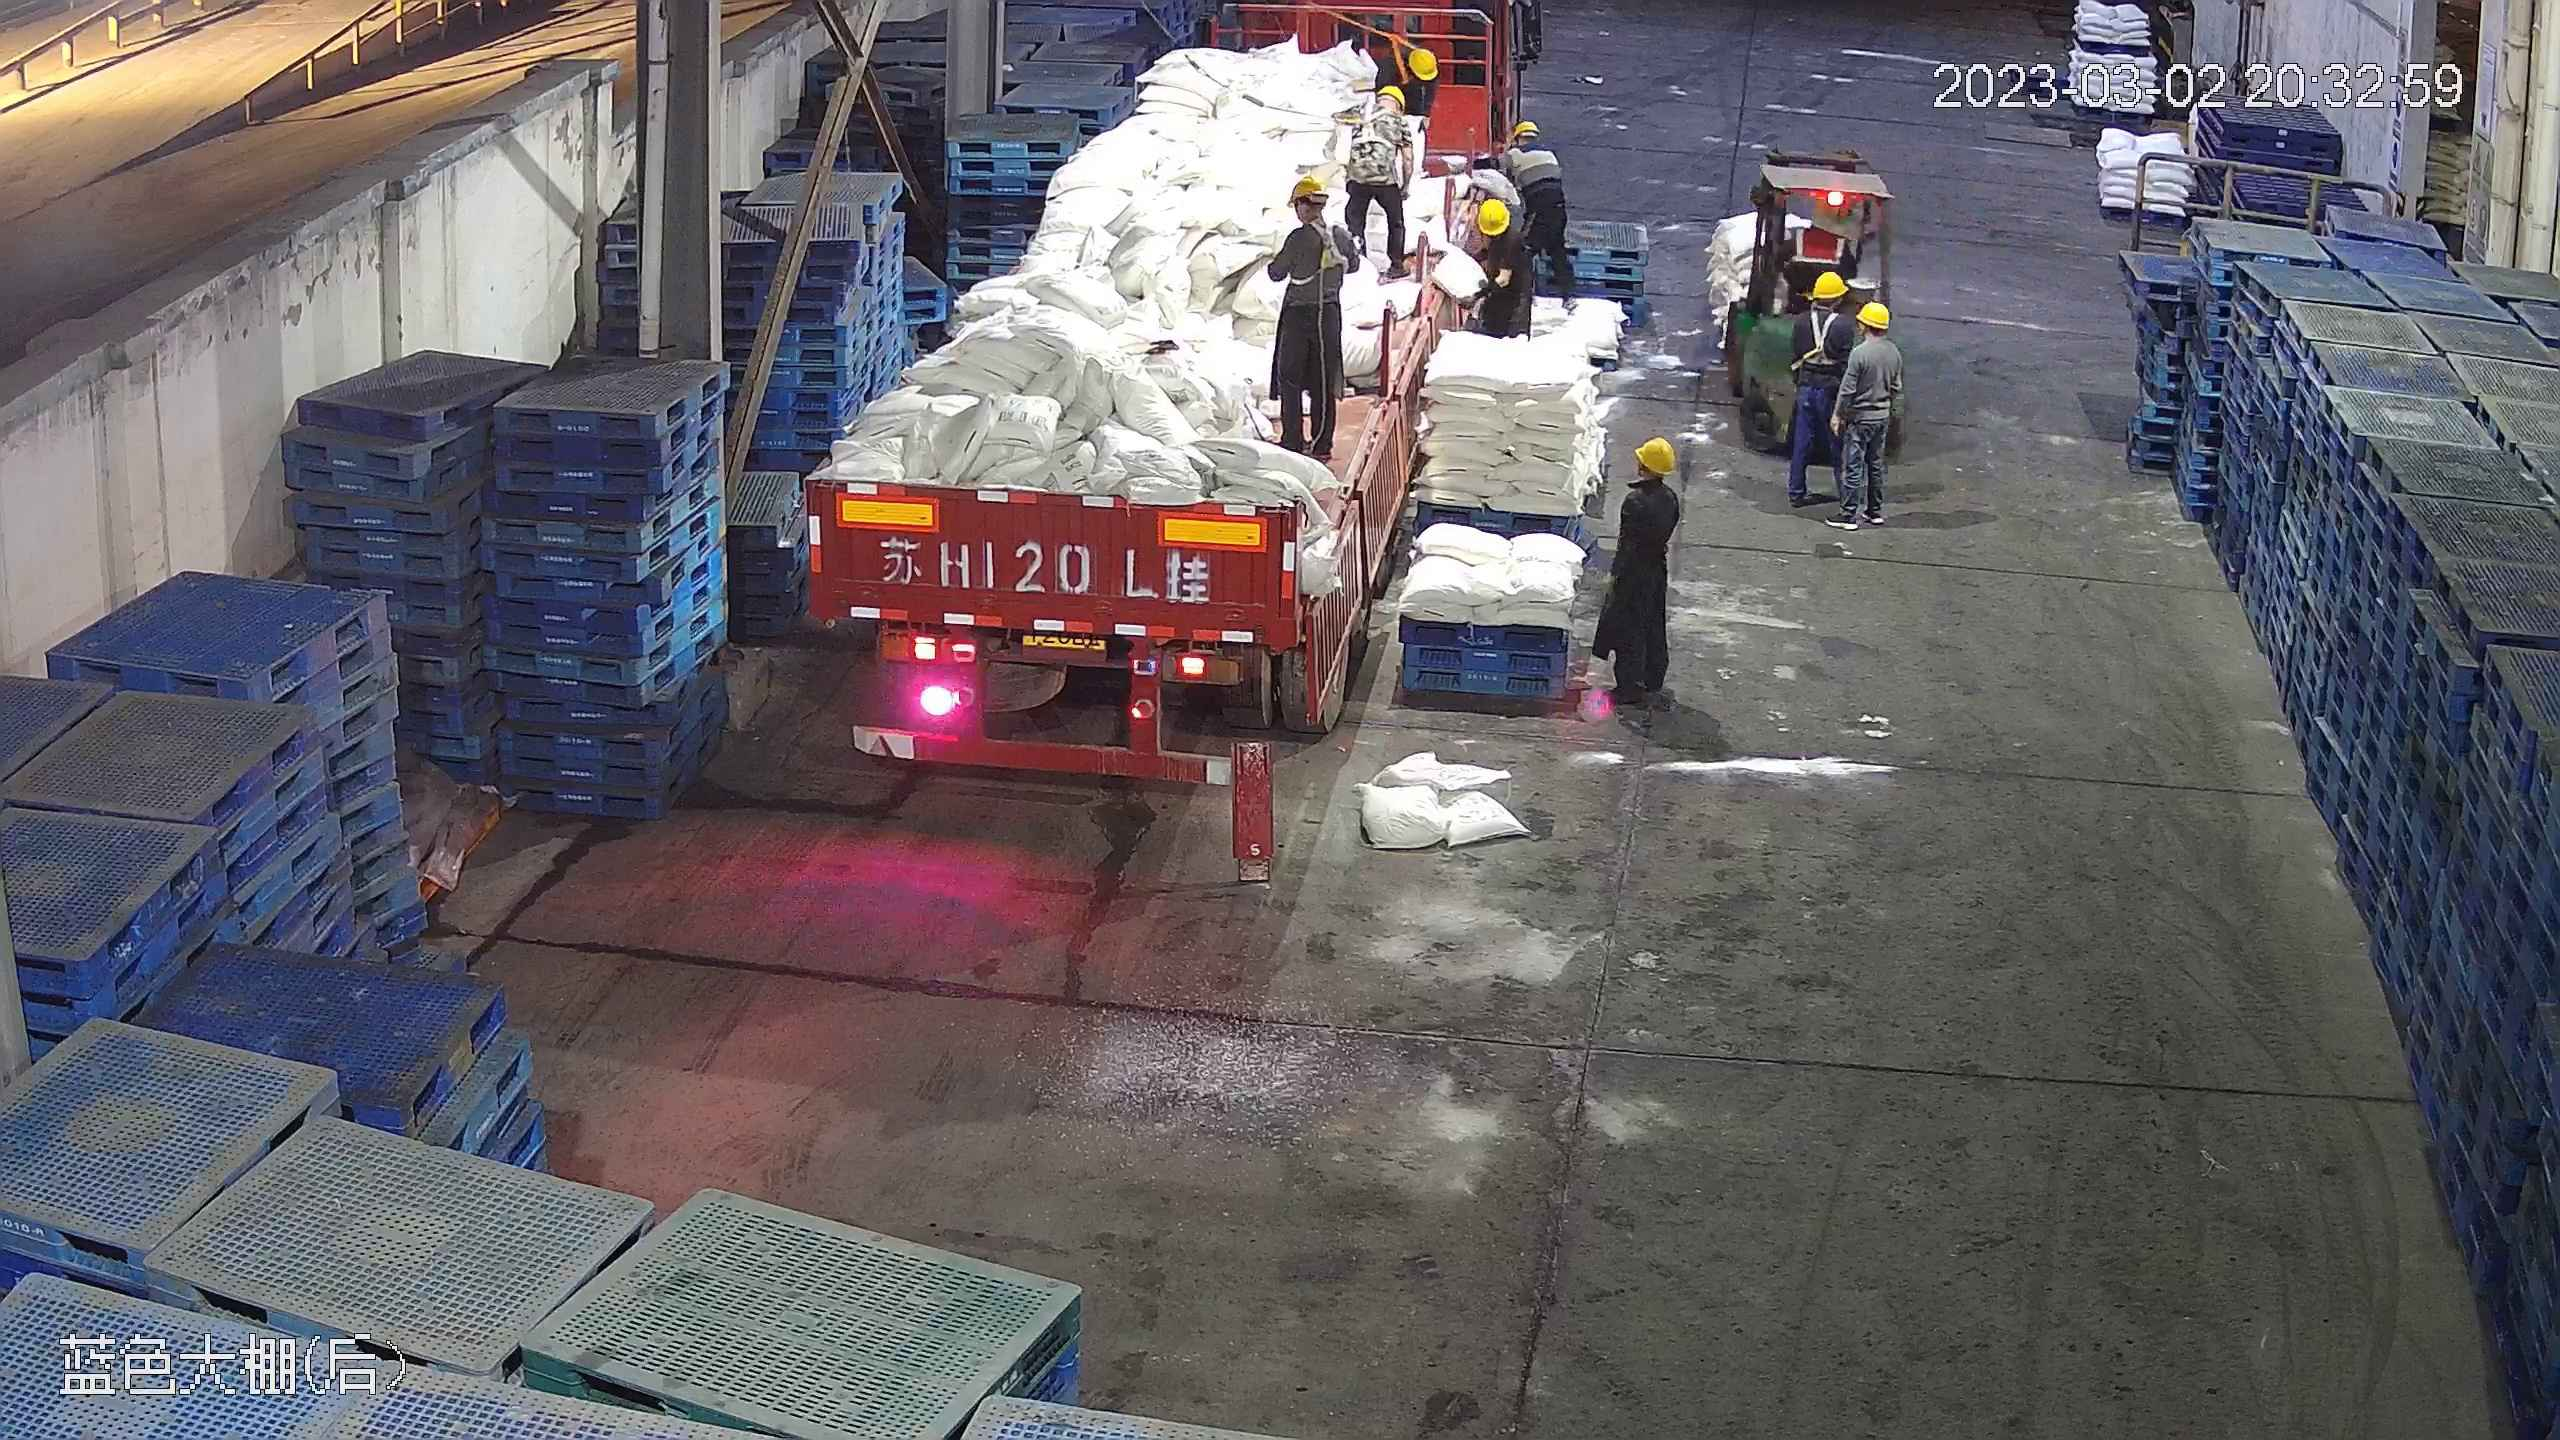belt: (1350, 100, 1409, 160), (1292, 219, 1346, 281), (1796, 305, 1841, 373), (1384, 28, 1416, 84)
head: (1279, 170, 1350, 259), (1615, 434, 1681, 529), (1796, 270, 1865, 353), (1456, 191, 1525, 274), (1338, 80, 1416, 147), (1499, 121, 1562, 192), (1841, 299, 1899, 369), (1379, 43, 1441, 93)
helmet: (1633, 434, 1675, 472), (1473, 195, 1509, 234), (1287, 170, 1329, 201), (1854, 296, 1888, 327), (1807, 270, 1848, 298), (1412, 47, 1440, 80), (1511, 119, 1544, 146), (1377, 86, 1407, 111)
people: (1243, 169, 1351, 459), (1594, 432, 1685, 714), (1337, 69, 1428, 276), (1824, 291, 1901, 533), (1782, 273, 1855, 509), (1504, 116, 1576, 318), (1471, 193, 1536, 340)
truck: (806, 16, 1492, 778)
